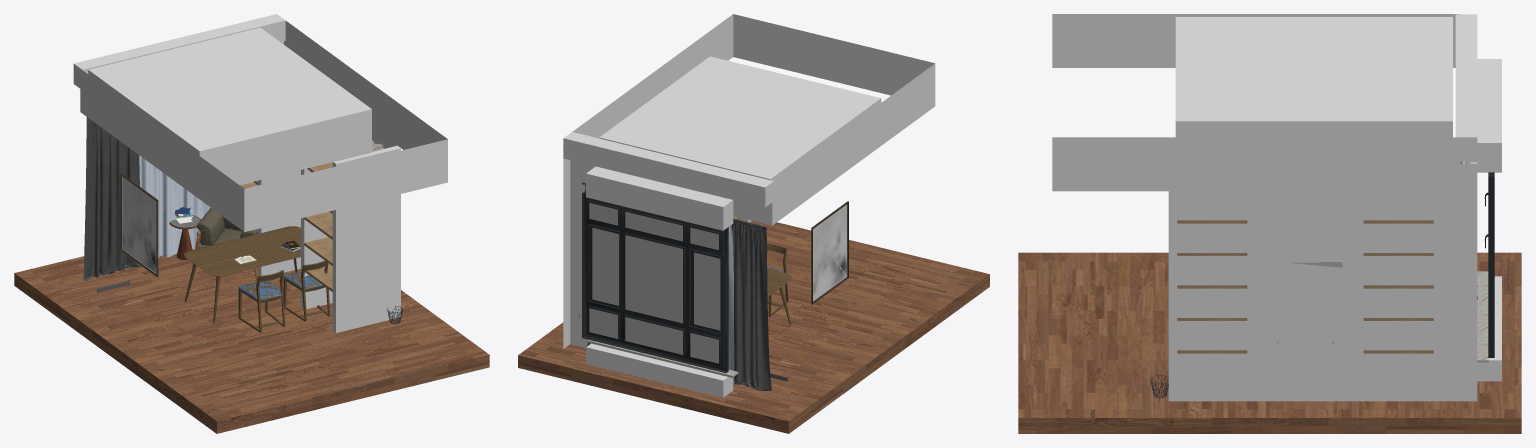
The model's file is phong-doc-bac-au.glb.
3 views of the same model, side by side, from view 1: azimuth 30°, elevation 25°; view 2: azimuth 150°, elevation 25°; view 3: azimuth 270°, elevation 25° (orthographic). The views are drawn at different scales.
Visible parts, largest first — view 1: Box004, Rectangle053, Box1578958293, Box1578958283, curtain_02, table, Rectangle06, curtain_03, Box1578958294, Box1578958282, DYLAN CHAIR 442.010, Box1578958281 (+5 smaller); view 2: Box004, Rectangle053, Box1578958293, 对象011, Plane004, Box1578958294, curtain_02, Box1578958279, Box006, Rectangle06, Box1578958280, 对象012 (+7 smaller); view 3: 对象174, Box004, Box1578958293, Rectangle053, Box1578958294, Box1578958279, Plane004, Box006, Box1578958219.
Boxes of the visible parts, left/top/right/bottom form: Box004: left=14, top=249, right=489, bottom=433; Rectangle053: left=80, top=21, right=447, bottom=231; Box1578958293: left=88, top=27, right=371, bottom=151; Box1578958283: left=332, top=145, right=400, bottom=332; curtain_02: left=83, top=117, right=141, bottom=280; table: left=183, top=226, right=300, bottom=322; Rectangle06: left=120, top=173, right=158, bottom=277; curtain_03: left=139, top=155, right=210, bottom=258; Box1578958294: left=73, top=14, right=285, bottom=88; Box1578958282: left=301, top=168, right=332, bottom=309; DYLAN CHAIR 442.010: left=238, top=270, right=285, bottom=332; Box1578958281: left=257, top=170, right=300, bottom=275; Box004: left=518, top=220, right=989, bottom=433; Rectangle053: left=570, top=14, right=935, bottom=225; Box1578958293: left=599, top=56, right=880, bottom=179; 对象011: left=589, top=203, right=718, bottom=363; Plane004: left=582, top=191, right=728, bottom=373; Box1578958294: left=563, top=132, right=773, bottom=207; curtain_02: left=732, top=218, right=771, bottom=390; Box1578958279: left=586, top=166, right=733, bottom=230; Box006: left=586, top=343, right=733, bottom=397; Rectangle06: left=811, top=201, right=848, bottom=304; Box1578958280: left=570, top=176, right=588, bottom=347; 对象012: left=694, top=252, right=720, bottom=330; 对象174: left=1168, top=163, right=1477, bottom=401; Box004: left=1018, top=252, right=1521, bottom=433; Box1578958293: left=1175, top=17, right=1452, bottom=137; Rectangle053: left=1052, top=14, right=1459, bottom=191; Box1578958294: left=1455, top=14, right=1477, bottom=162; Box1578958279: left=1477, top=59, right=1501, bottom=172; Plane004: left=1488, top=172, right=1494, bottom=357; Box006: left=1477, top=276, right=1501, bottom=381; Box1578958219: left=1477, top=271, right=1488, bottom=362.
Bounding box in the file's own units: 4.47 × 3.53 × 5.75.
82 materials, 60 textured.
